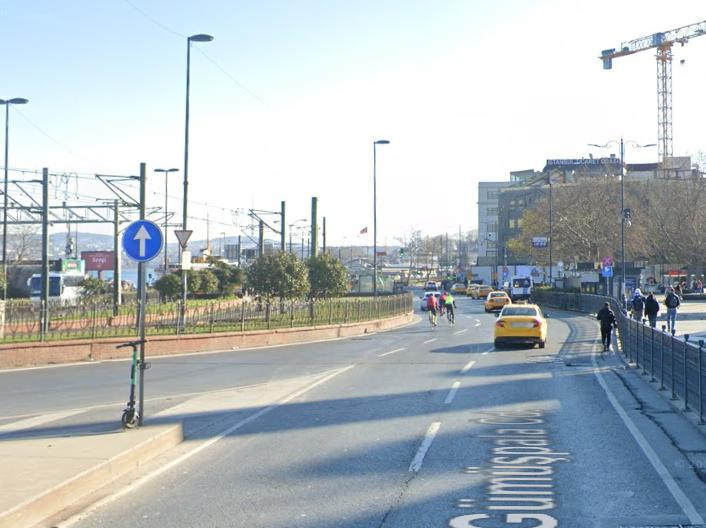forward: (119, 218, 161, 260)
